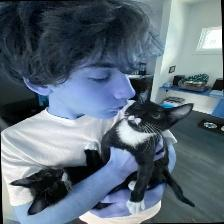kedo: (100, 91, 196, 214), (9, 140, 100, 217)
